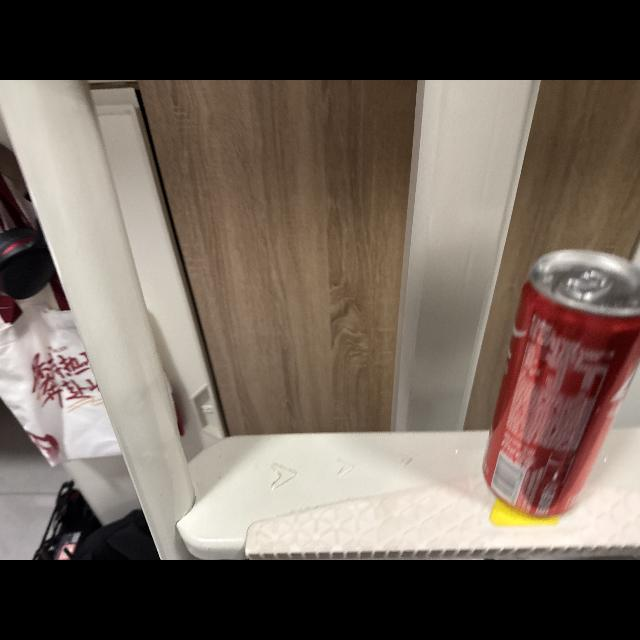Cola: (476, 239, 640, 526)
